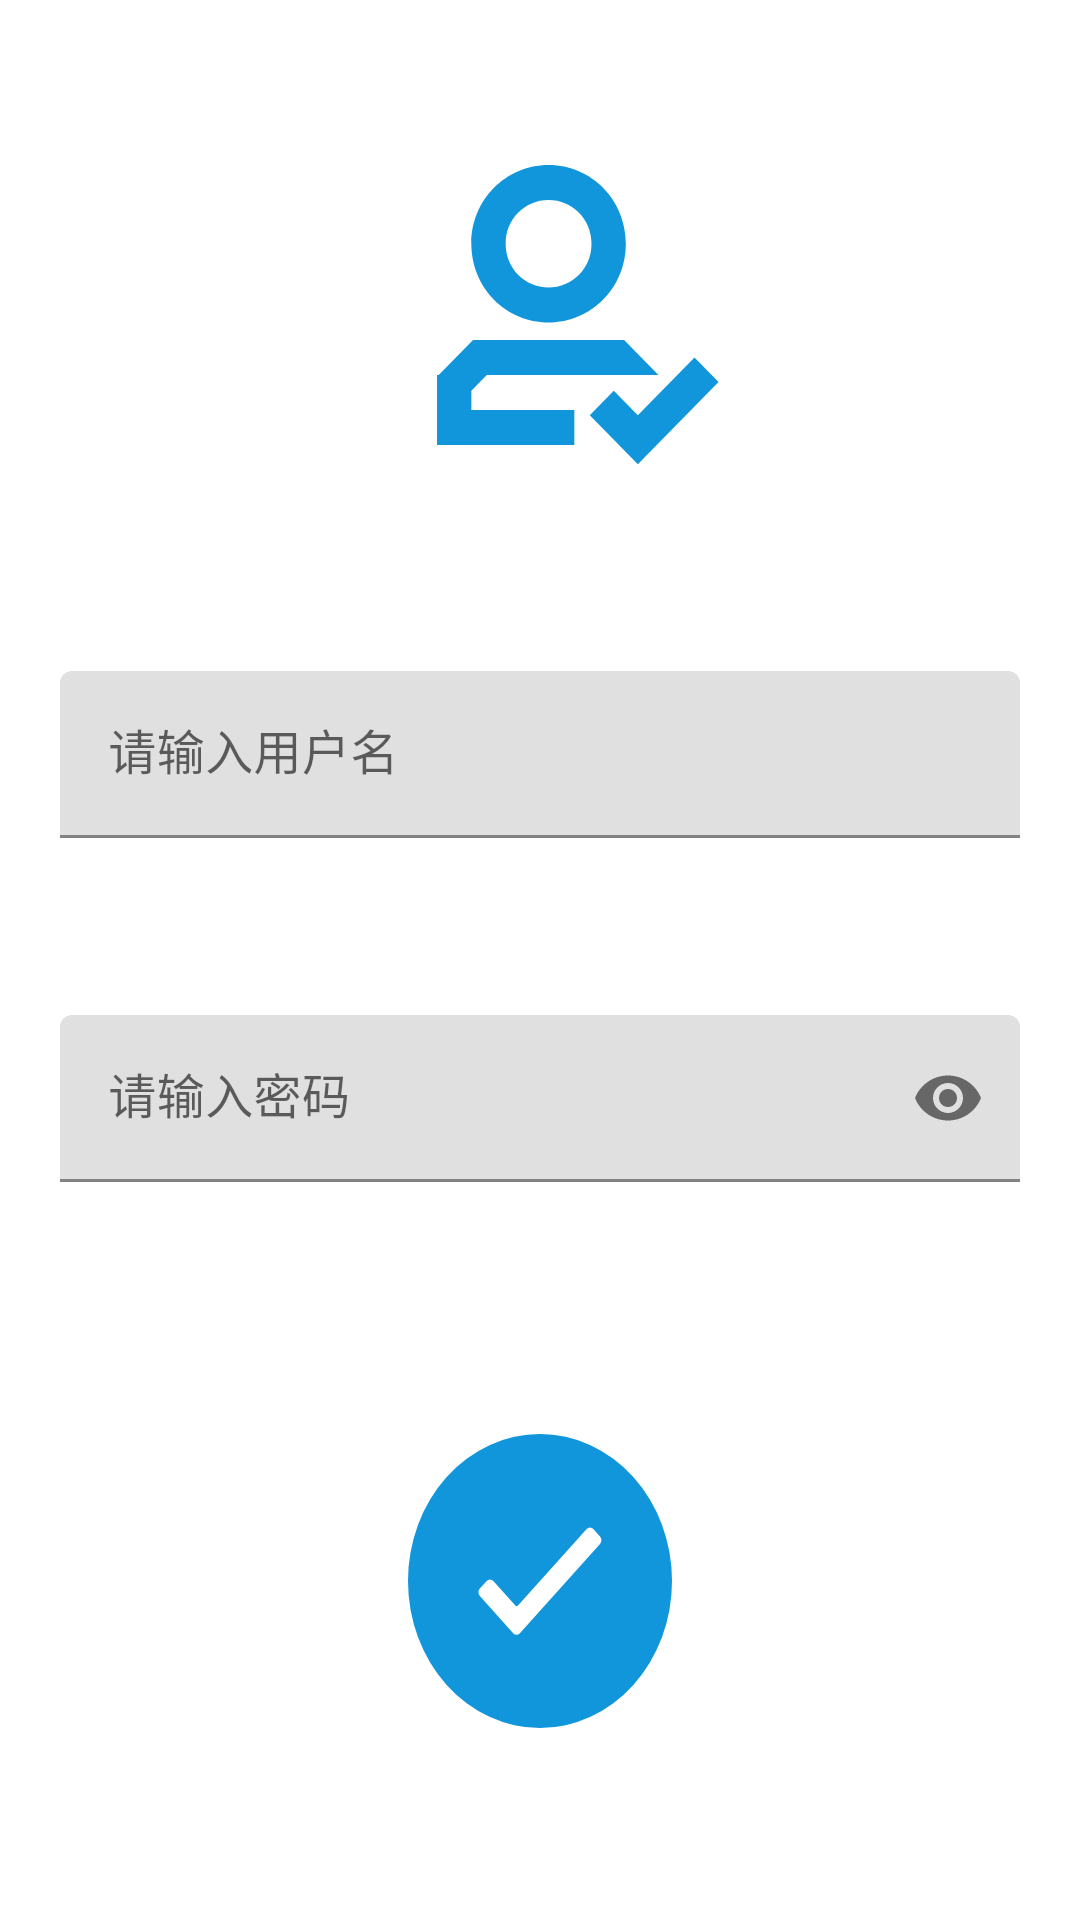

Icons on this 1080 × 1920 Android screen, each with its box as (x1, y1, x2, y2):
admin: (437, 165, 719, 464)
confirm: (408, 1434, 672, 1728)
